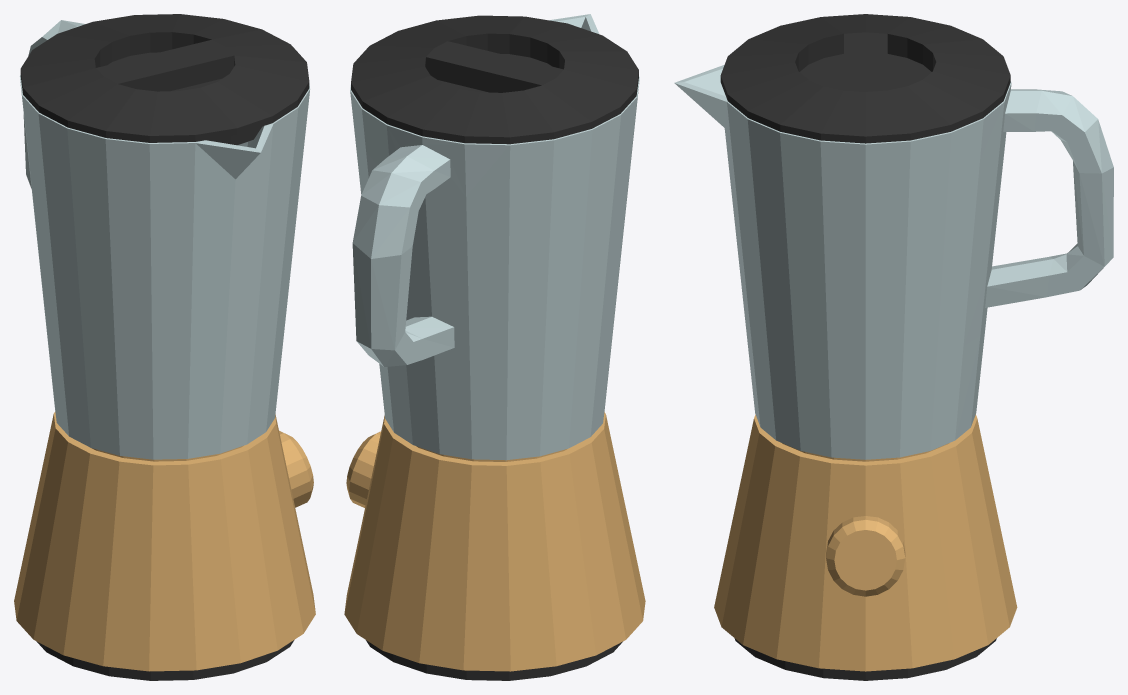
The model's file is 1304 Blender.gltf.
3 renders of one model, left to right at view 1: azimuth 30°, elevation 25°; view 2: azimuth 150°, elevation 25°; view 3: azimuth 270°, elevation 25°, orthographic.
Parts seen in each view (by area): view 1: node-0; view 2: node-0; view 3: node-0.
Part boxes in pixels (box(x1,y1,x2,y2)): node-0: box(14, 14, 315, 680); node-0: box(344, 14, 645, 680); node-0: box(674, 14, 1113, 680).
Bounding box in the file's own units: 1.83 × 3.66 × 2.6.
1 material, 1 textured.
